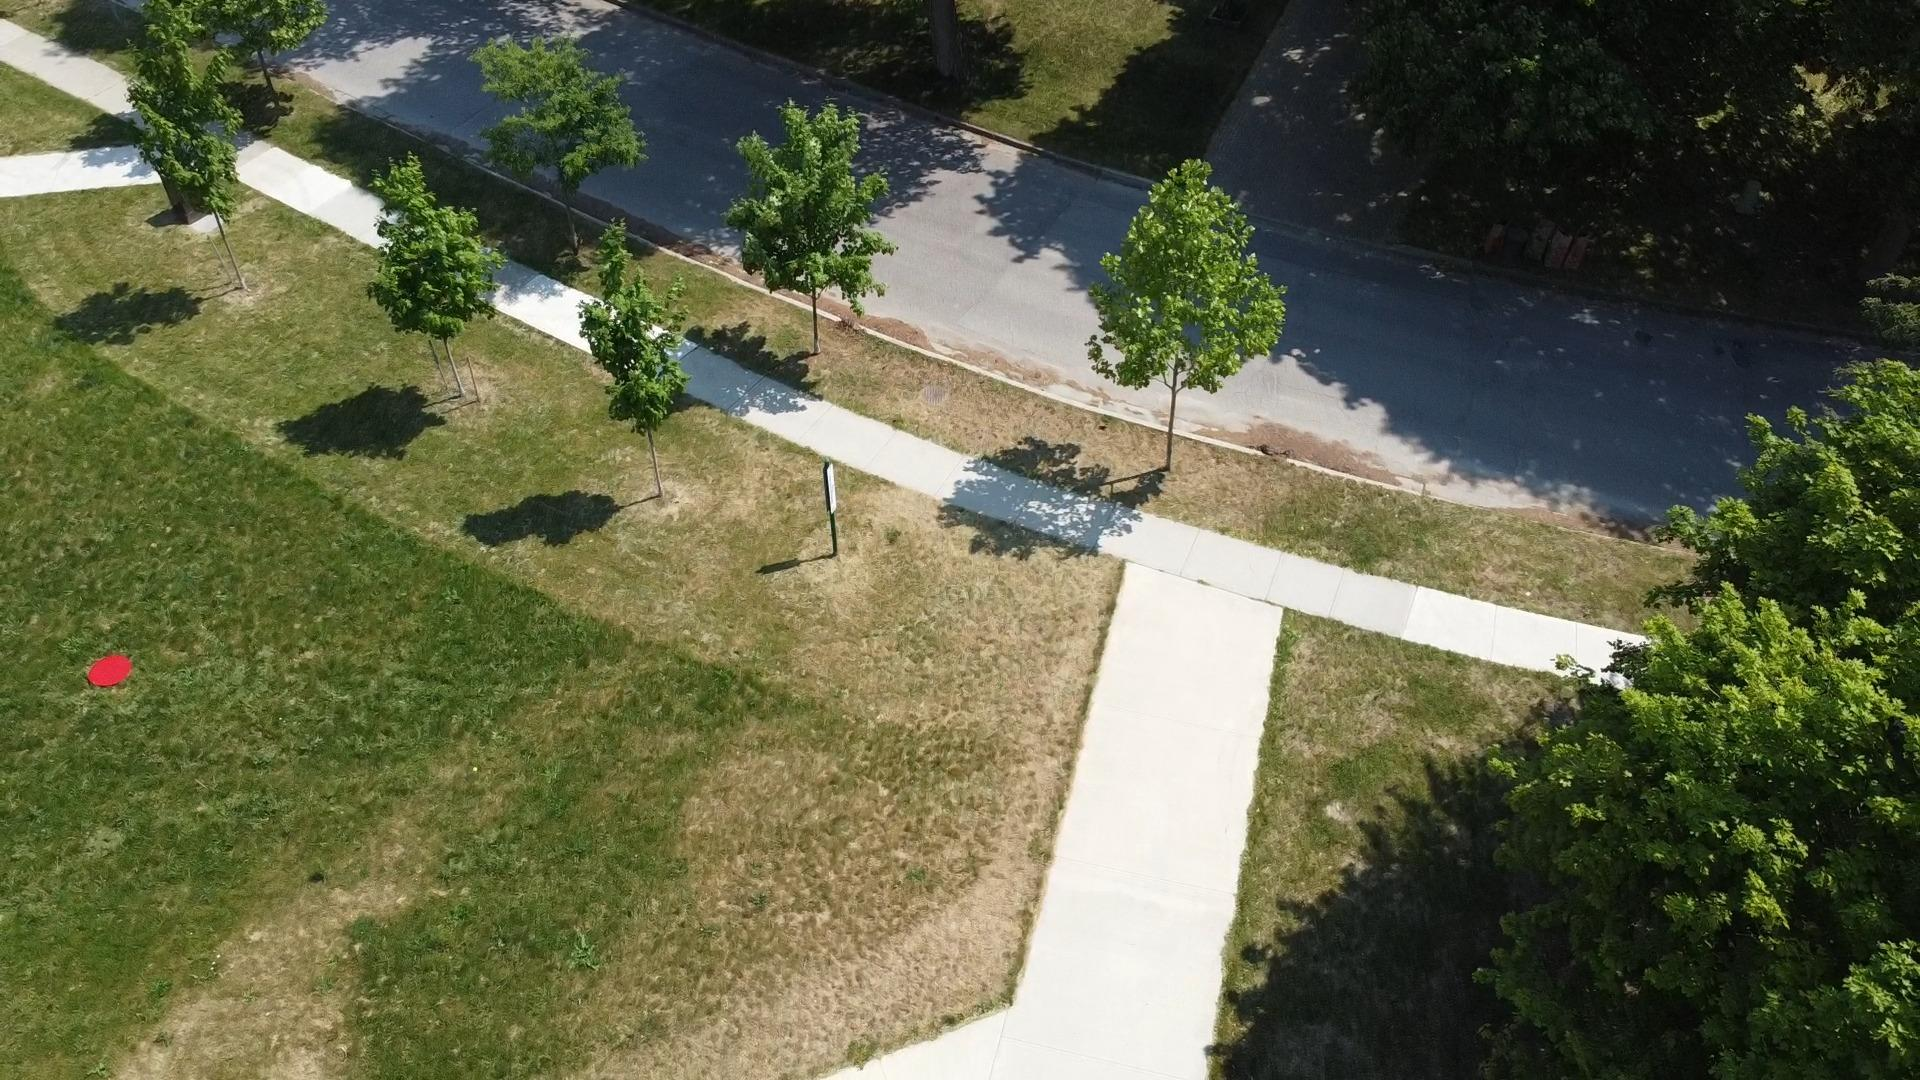Red: (87, 653, 133, 690)
